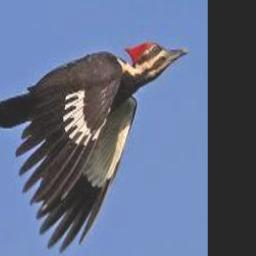Woodpecker: (0, 40, 188, 252)
